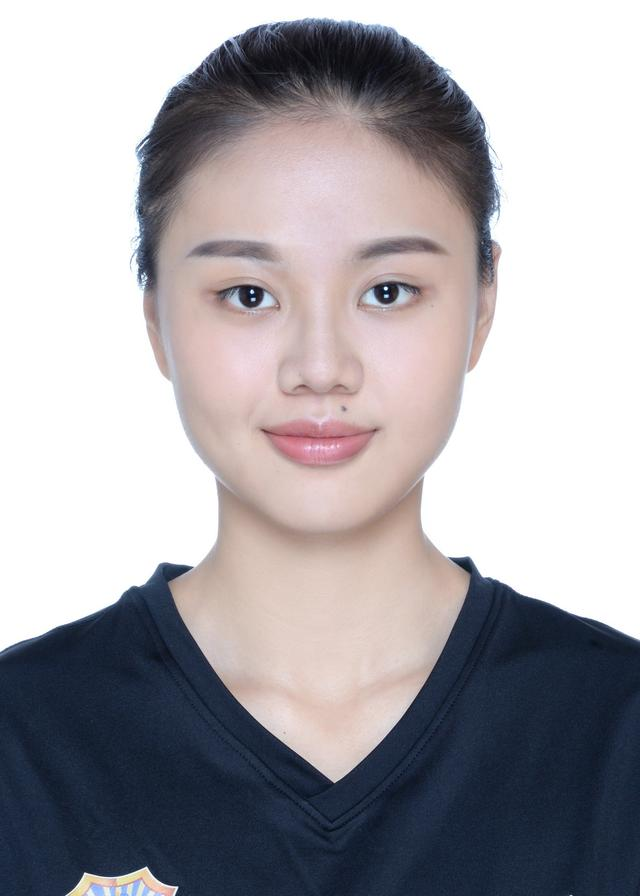unmask: (161, 157, 477, 524)
